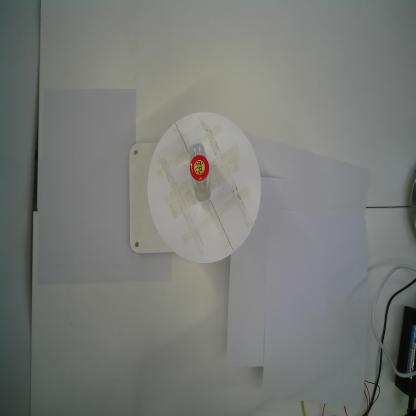Alcohol: (186, 140, 212, 204)
